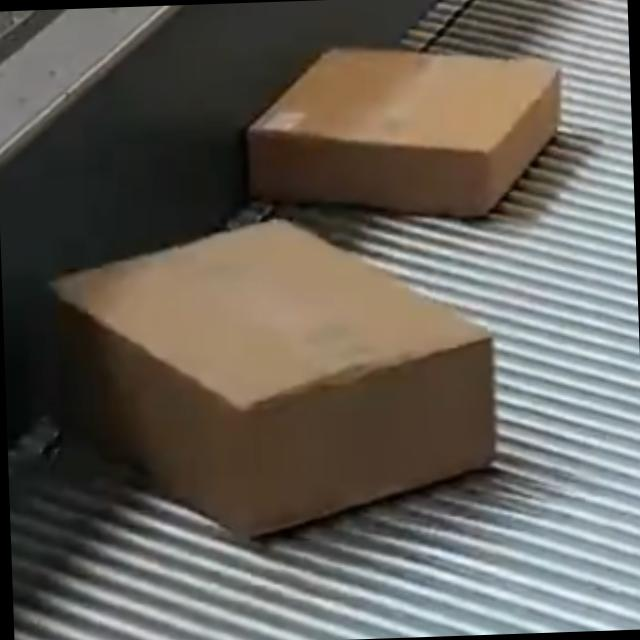box: (34, 211, 503, 537), (246, 38, 569, 216)
